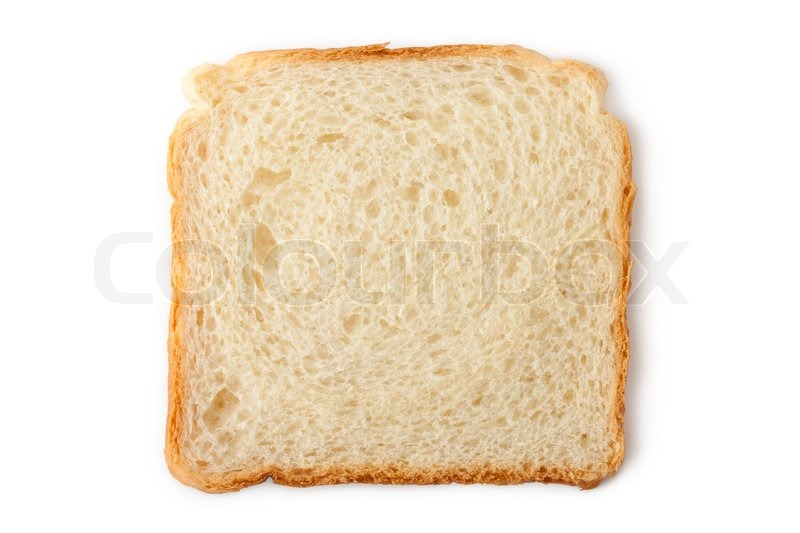slice of bread: (166, 58, 628, 488)
